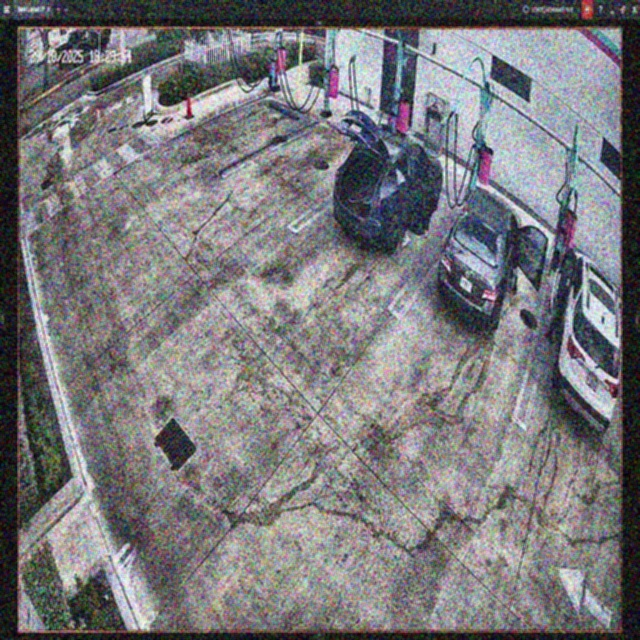Car: (335, 108, 445, 252), (441, 187, 546, 333)
